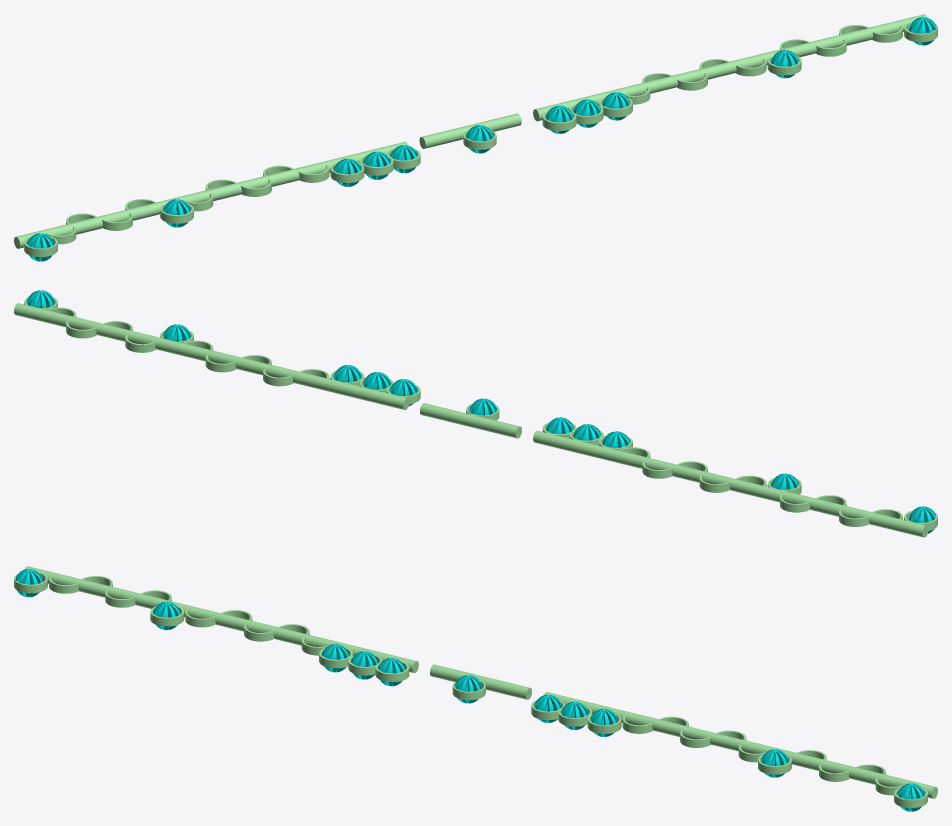
Rendered from Sec_Tybe.fbx.
3 renders of one model, top to bottom at view 1: azimuth 30°, elevation 25°; view 2: azimuth 150°, elevation 25°; view 3: azimuth 330°, elevation 25°, orthographic.
Visible parts, largest first — view 1: polySurface19 (×2), polySurface21; view 2: polySurface19 (×2), polySurface21; view 3: polySurface19 (×2), polySurface21.
Boxes of the visible parts, x1=… form: polySurface19 (×2): x1=14, y1=14, x2=937, y2=256; polySurface21: x1=453, y1=121, x2=496, y2=149; polySurface19 (×2): x1=14, y1=297, x2=937, y2=537; polySurface21: x1=452, y1=404, x2=499, y2=430; polySurface19 (×2): x1=14, y1=566, x2=937, y2=807; polySurface21: x1=452, y1=672, x2=497, y2=700.
Size of the model in its own units: 84.12 by 2.36 by 4.69.
